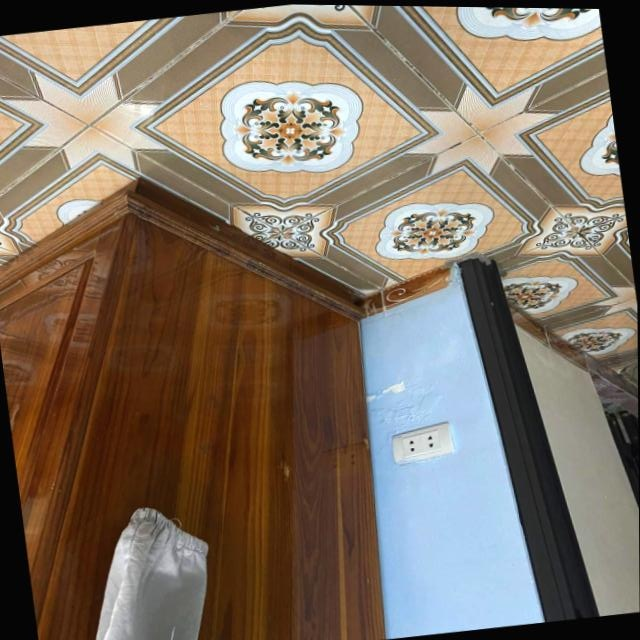outlet: (388, 421, 455, 467)
